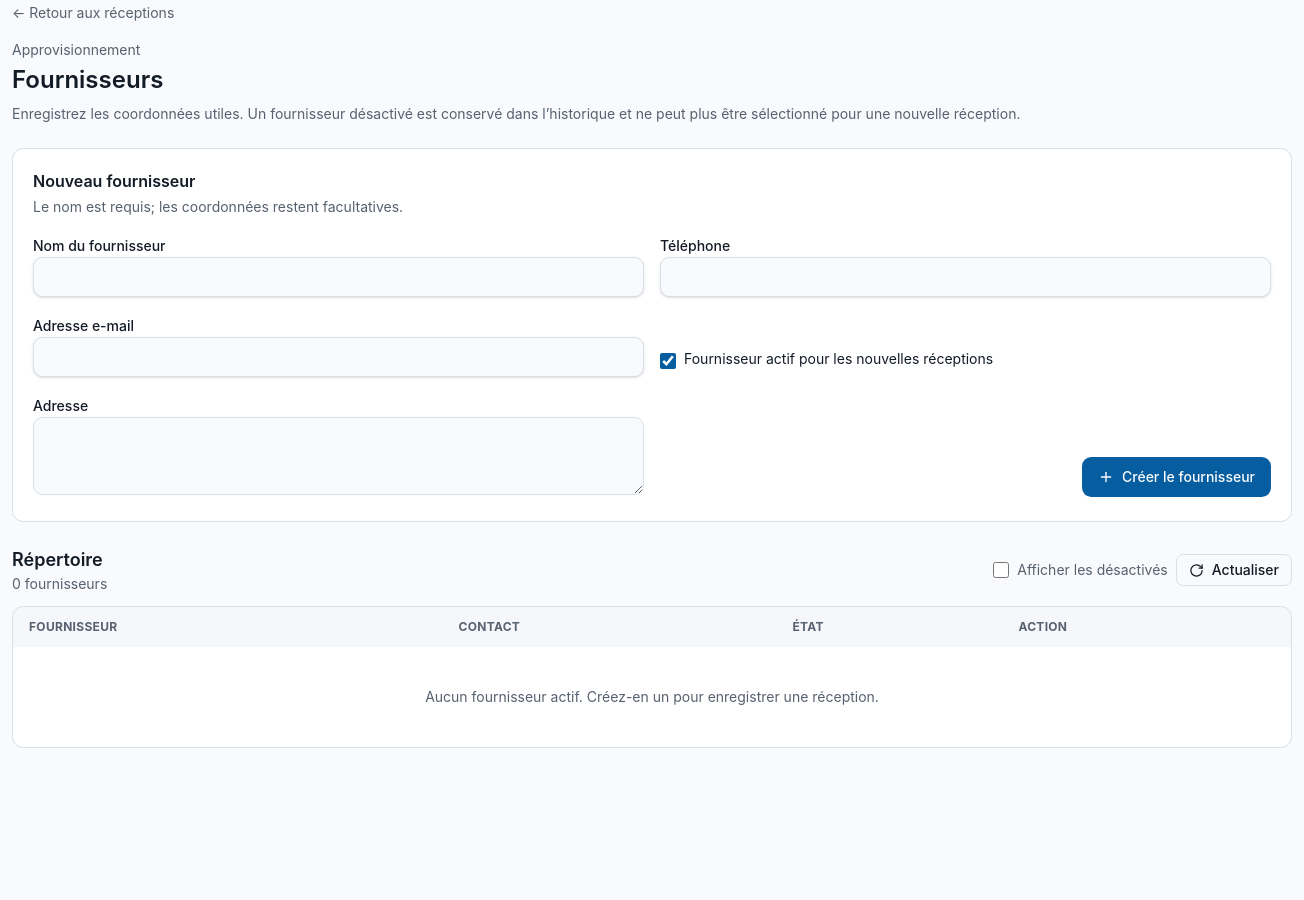
it: fournisseurs et montants F CFA › crée un fournisseur et recharge le répertoire
Expected: the text "Aucun fournisseur actif. Créez-en un pour enregistrer une réception." is shown, [13, 647, 1291, 747]
In the field labelled "Nom du fournisseur": (338,277) [33, 257, 644, 297], type "Grossiste test"
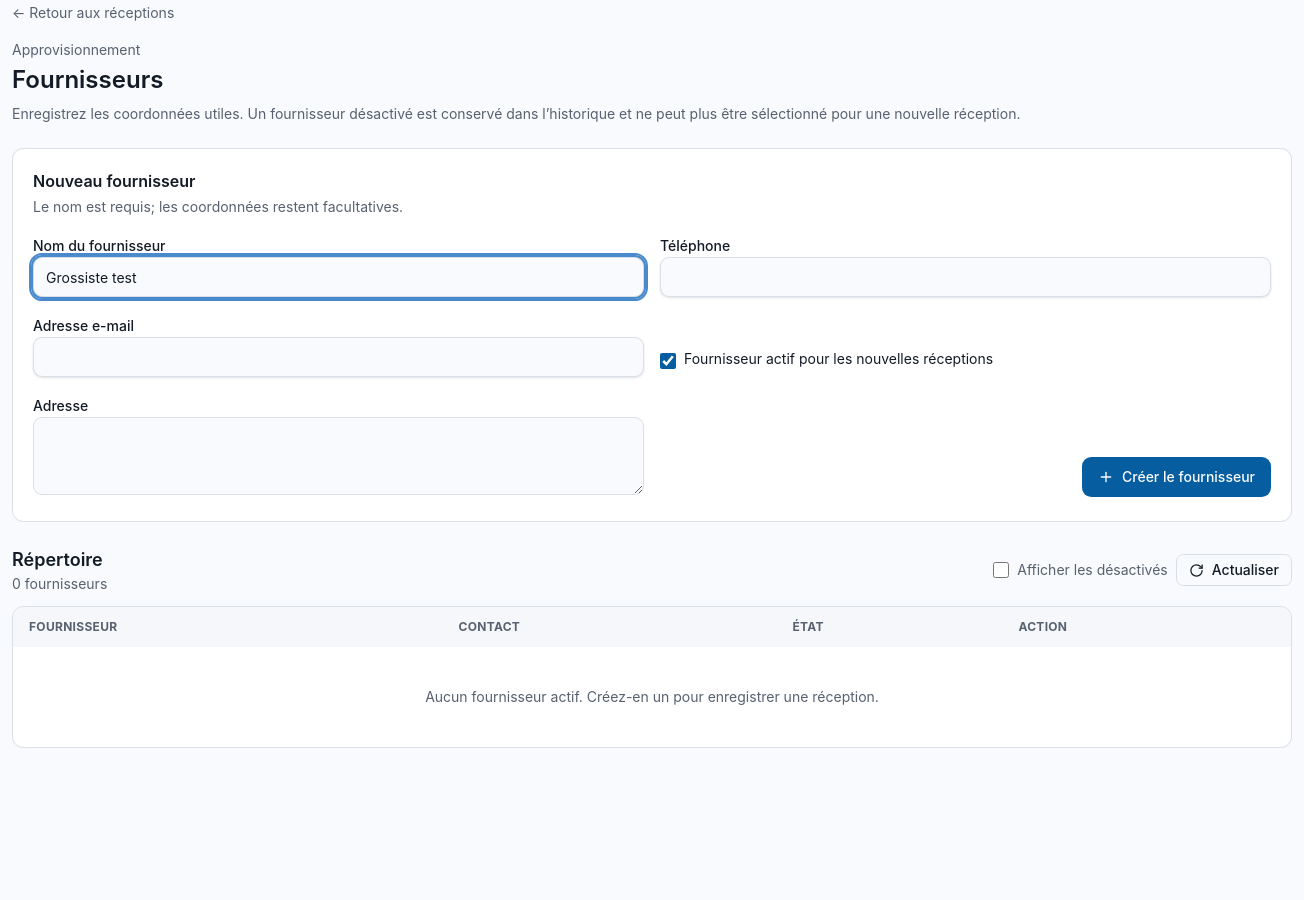
In the field labelled "Téléphone": (966,277) [660, 257, 1271, 297], type "70000000"
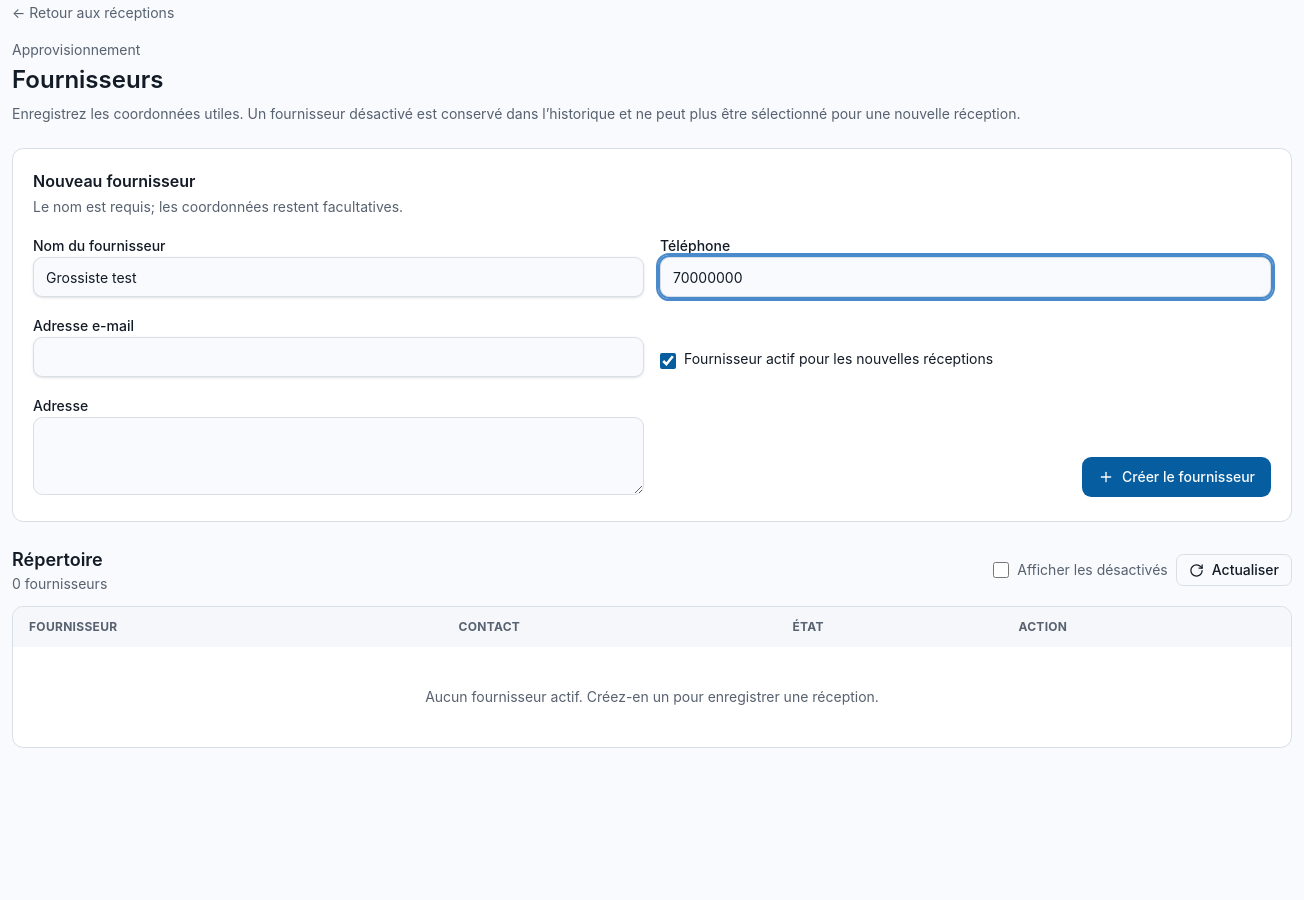
Click the button "Créer le fournisseur": (1176,477) [1082, 457, 1271, 497]
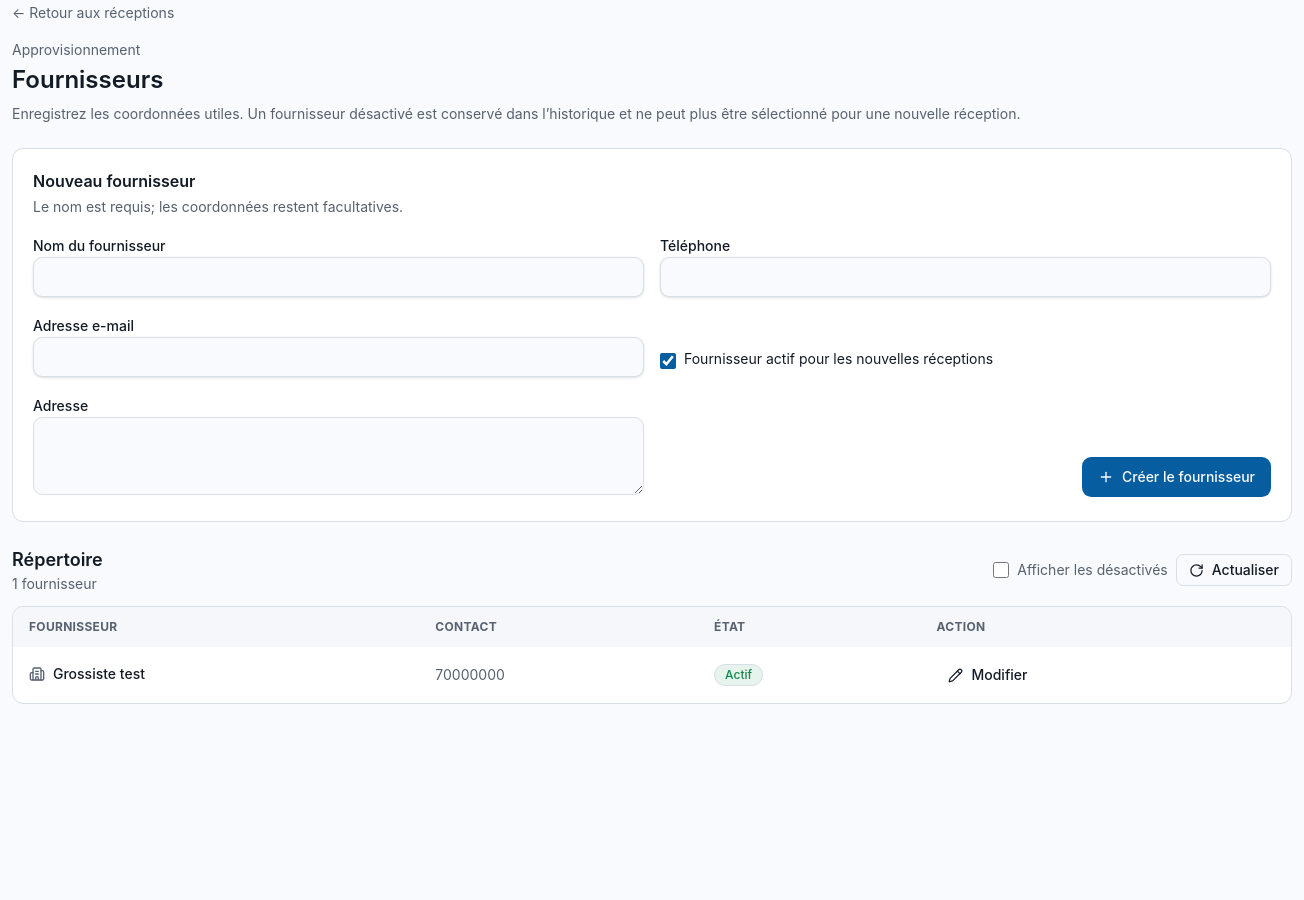
Expected: the text "Grossiste test" is shown, [29, 664, 145, 684]
